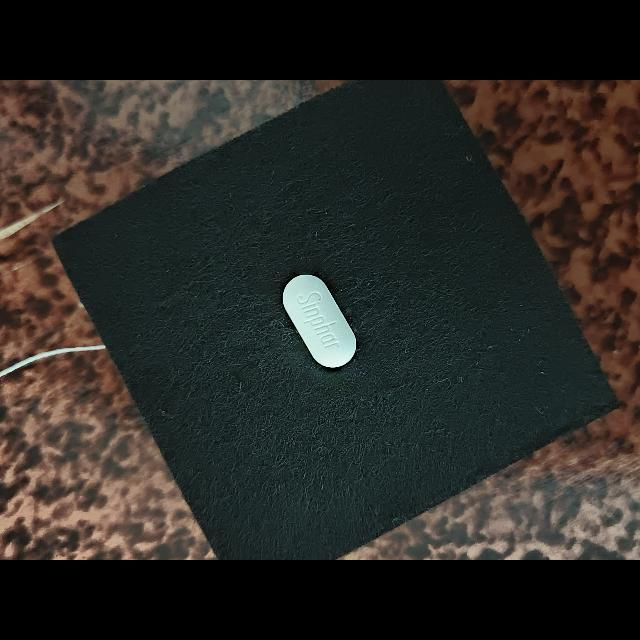Intact Pill: (283, 275, 357, 368)
